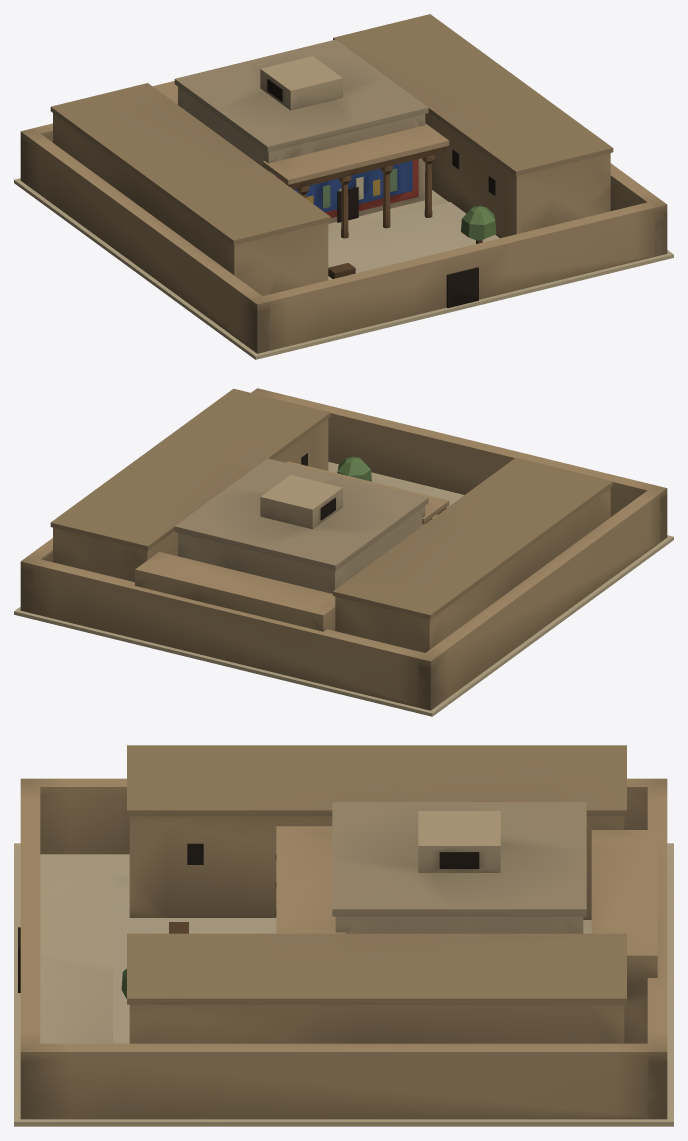
File: ambassadors-hall.glb
3 views of the same model, one above another, from view 1: azimuth 30°, elevation 25°; view 2: azimuth 150°, elevation 25°; view 3: azimuth 270°, elevation 25° (orthographic). The views are drawn at different scales.
Visible parts, largest first — view 1: p1_hall, p0_walls; view 2: p1_hall, p0_walls; view 3: p1_hall, p0_walls.
Boxes of the visible parts, box(x1,y1,x2,y2) form: p1_hall: box(50, 14, 613, 295); p0_walls: box(14, 123, 673, 359); p1_hall: box(50, 388, 613, 652); p0_walls: box(14, 388, 673, 716); p1_hall: box(121, 745, 657, 1043); p0_walls: box(14, 778, 673, 1126).
Bounding box in the file's own units: 40 × 10.6 × 40.
